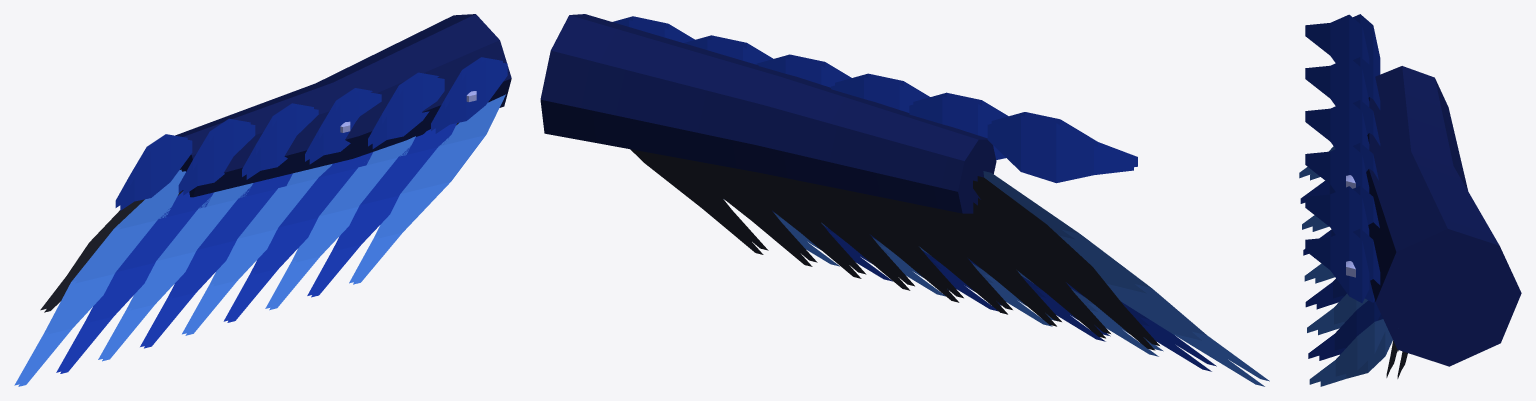
Rendered from sb_wing_in@1.glb.
The picture shows the model from 3 angles, left to right: view 1: azimuth 30°, elevation 25°; view 2: azimuth 150°, elevation 25°; view 3: azimuth 270°, elevation 25°; orthographic projection. The views are drawn at different scales.
Parts seen in each view (by area): view 1: teil3, teil1, teil0, teil2; view 2: teil0, teil2, teil3, teil1; view 3: teil0, teil3, teil1, teil2, teil4.
Part boxes in pixels (x1,y1,x2,y2): teil3: (56,57,507,373); teil1: (14,94,505,386); teil0: (175,14,511,197); teil2: (40,122,458,312); teil0: (540,14,996,213); teil2: (630,149,1159,350); teil3: (613,16,1216,371); teil1: (724,171,1269,386); teil0: (1366,66,1521,366); teil3: (1300,14,1382,360); teil1: (1299,146,1392,386); teil2: (1386,341,1407,378); teil4: (1346,175,1355,277).
Bounding box in the file's own units: 0.1818 × 0.0703 × 0.0482.
